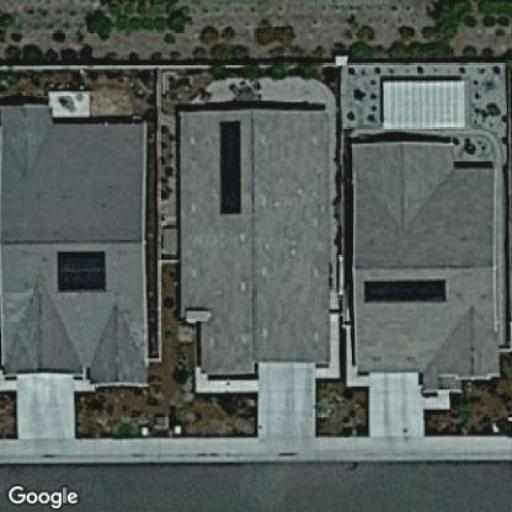solar-panel: (360, 274, 452, 308), (217, 118, 246, 219), (53, 248, 111, 296)
